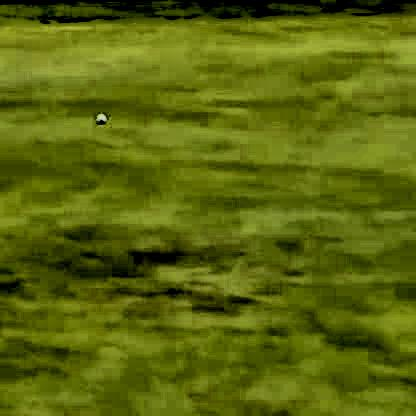golfball: (91, 111, 107, 124)
